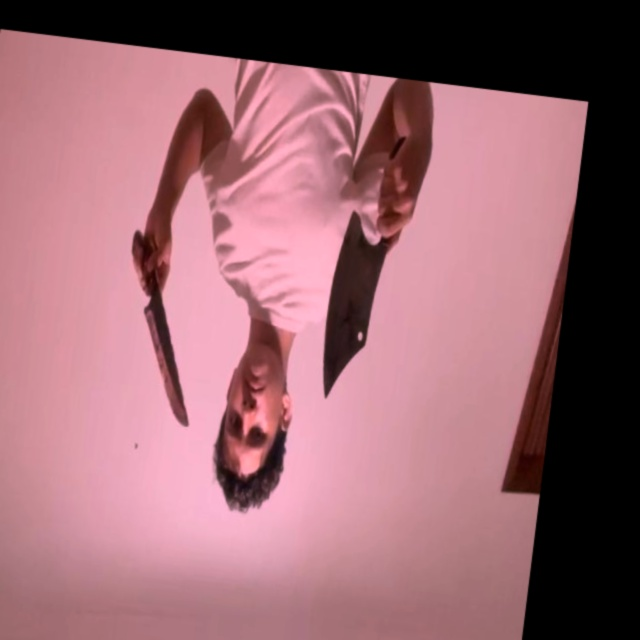Sharp-Object: (316, 207, 386, 407), (130, 303, 202, 428)
